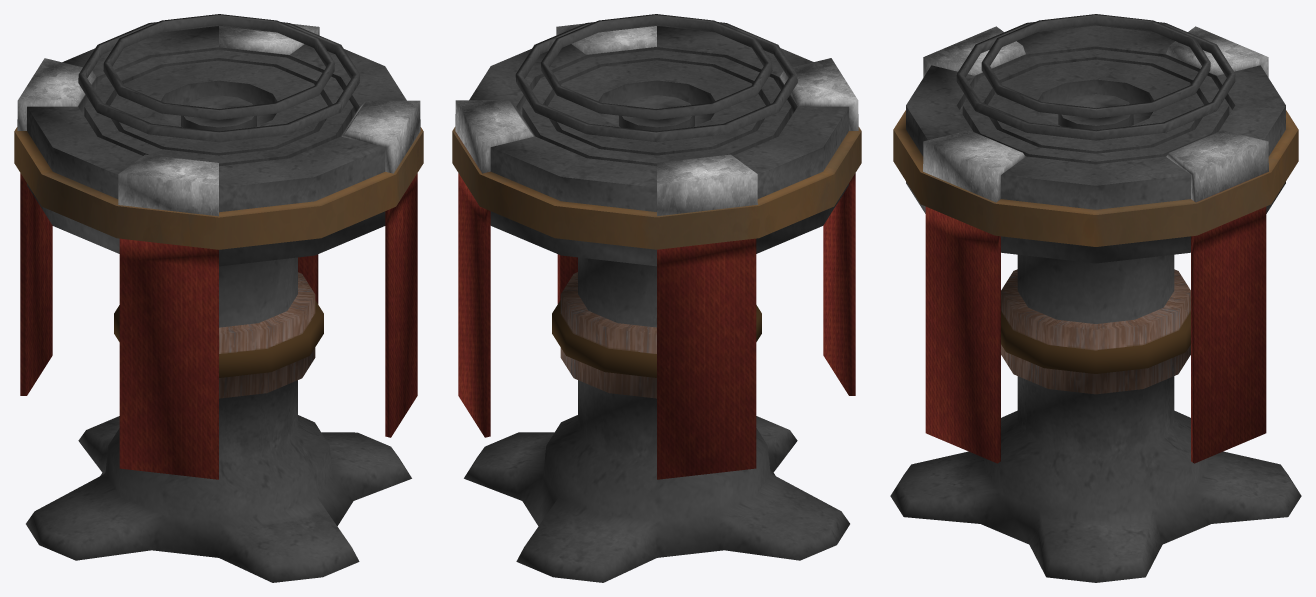
File: Upgrade_Table.fbx
3 renders of one model, left to right at view 1: azimuth 30°, elevation 25°; view 2: azimuth 150°, elevation 25°; view 3: azimuth 270°, elevation 25°, orthographic.
Visible parts, largest first — view 1: Upgrade_Table, Corner_Pieces, Inner_Ring, Outer_Ring; view 2: Upgrade_Table, Corner_Pieces, Inner_Ring, Outer_Ring; view 3: Upgrade_Table, Corner_Pieces, Inner_Ring, Outer_Ring.
Part boxes in pixels (bbox=[...]): Upgrade_Table: bbox=[14, 26, 423, 582]; Corner_Pieces: bbox=[17, 24, 420, 216]; Inner_Ring: bbox=[103, 14, 334, 119]; Outer_Ring: bbox=[78, 22, 359, 142]; Upgrade_Table: bbox=[452, 26, 861, 582]; Corner_Pieces: bbox=[455, 23, 858, 216]; Inner_Ring: bbox=[541, 14, 772, 119]; Outer_Ring: bbox=[515, 22, 797, 142]; Upgrade_Table: bbox=[890, 25, 1301, 582]; Corner_Pieces: bbox=[923, 26, 1268, 202]; Inner_Ring: bbox=[981, 14, 1210, 118]; Outer_Ring: bbox=[956, 22, 1235, 140].
Size of the model in its own units: 195 by 227 by 195.
